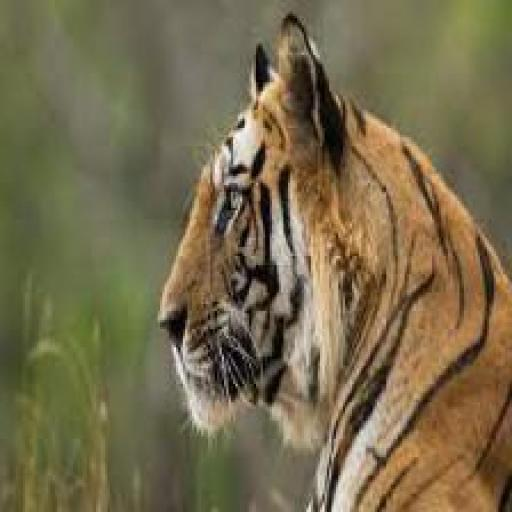Tiger: (160, 7, 512, 512)
